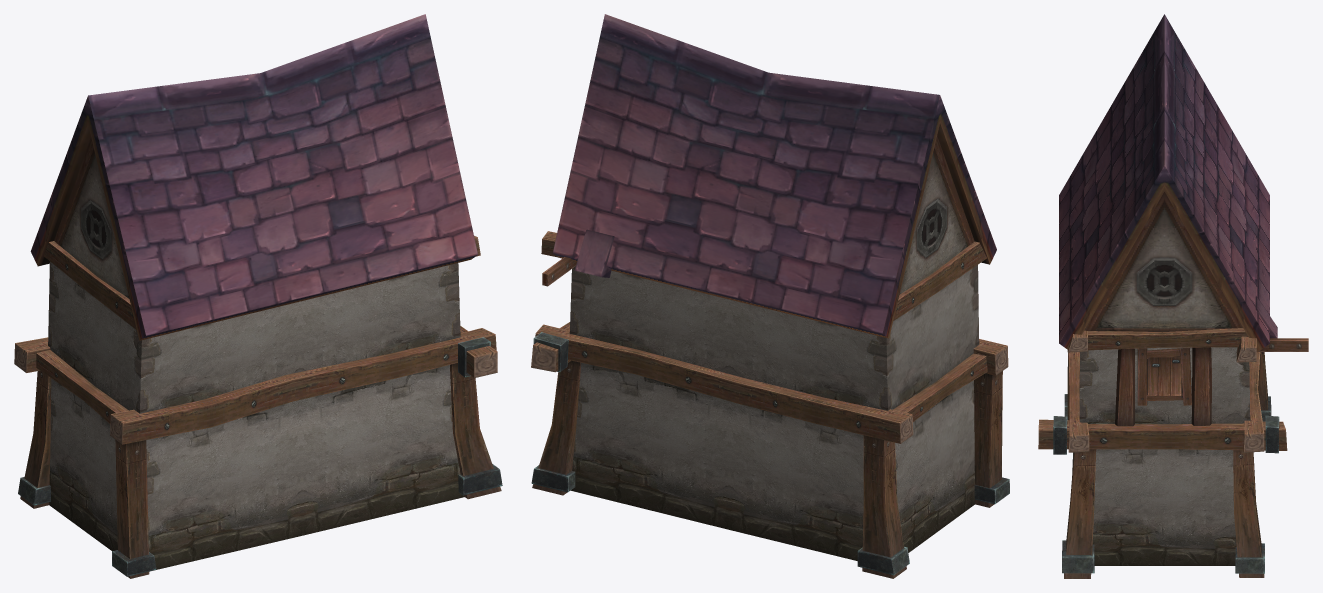
File: buiding_city_zhuchengminfang02.FBX
3 renders of one model, left to right at view 1: azimuth 30°, elevation 25°; view 2: azimuth 150°, elevation 25°; view 3: azimuth 270°, elevation 25°, orthographic. The views are drawn at different scales.
Parts seen in each view (by area): view 1: buiding_city_zhuchengminfang02; view 2: buiding_city_zhuchengminfang02; view 3: buiding_city_zhuchengminfang02.
Boxes of the visible parts, <box> form: buiding_city_zhuchengminfang02: <box>14,14,502,578</box>; buiding_city_zhuchengminfang02: <box>531,14,1009,578</box>; buiding_city_zhuchengminfang02: <box>1038,14,1308,578</box>.
Size of the model in its own units: 7.39 by 5.03 by 8.31.
